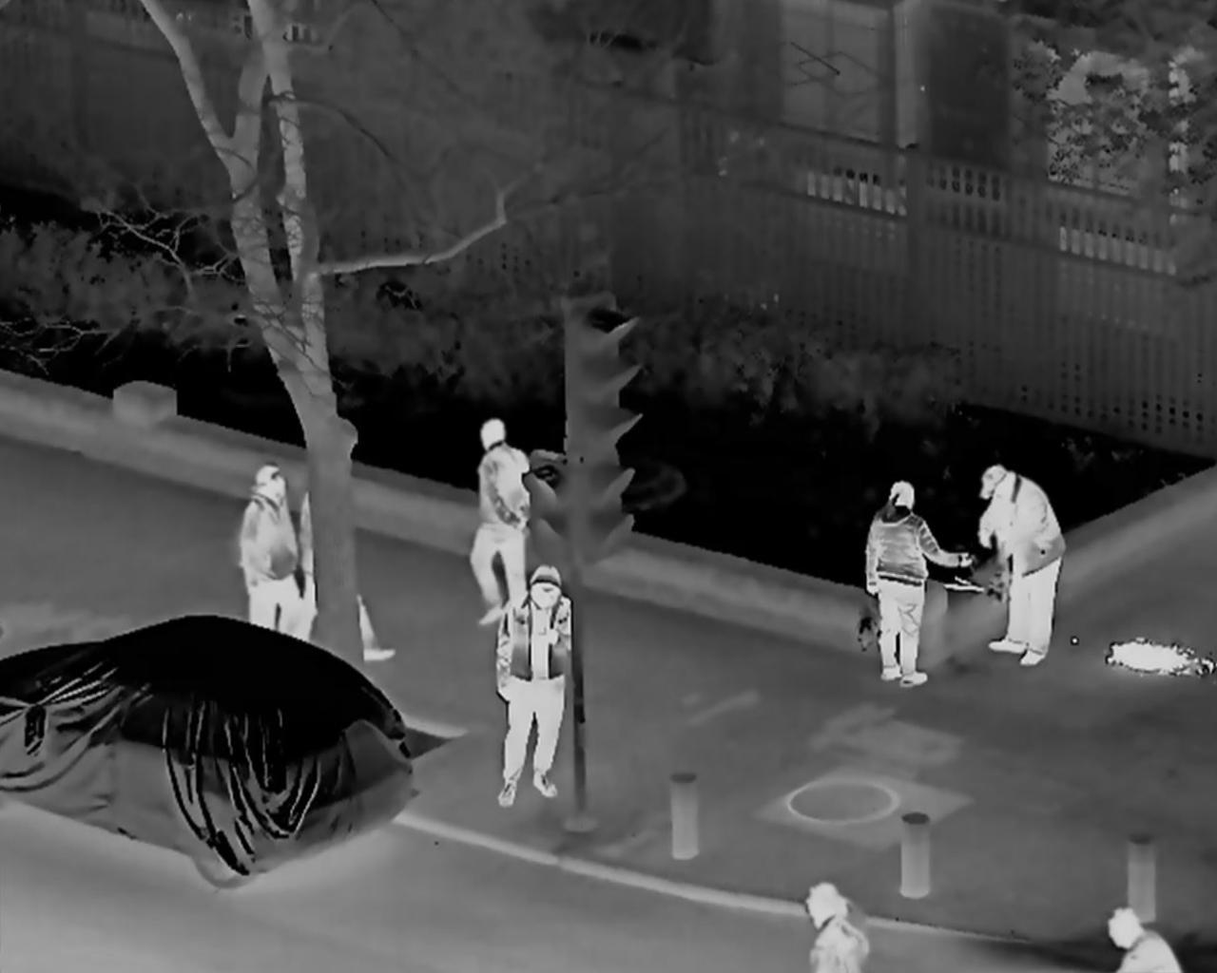person: (860, 481, 975, 685), (492, 563, 571, 801), (970, 466, 1062, 667), (453, 417, 533, 620), (239, 464, 299, 652), (799, 882, 869, 973), (1098, 906, 1180, 973)
